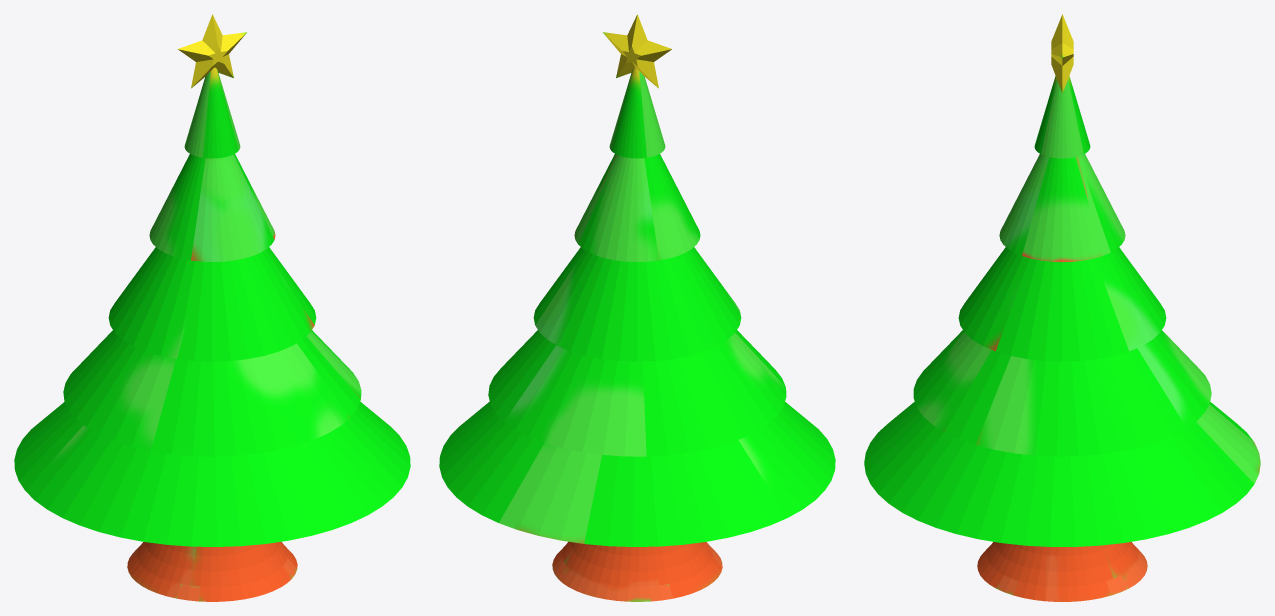
The model's file is arbol.dae.
3 views of the same model, side by side, from view 1: azimuth 30°, elevation 25°; view 2: azimuth 150°, elevation 25°; view 3: azimuth 270°, elevation 25° (orthographic).
Parts seen in each view (by area): view 1: XmasTree - S01; view 2: XmasTree - S01; view 3: XmasTree - S01.
Part boxes in pixels (bbox=[...]): XmasTree - S01: bbox=[14, 14, 410, 601]; XmasTree - S01: bbox=[439, 14, 835, 601]; XmasTree - S01: bbox=[864, 14, 1260, 601].
Bounding box in the file's own units: 6.99 × 7 × 10.75.
